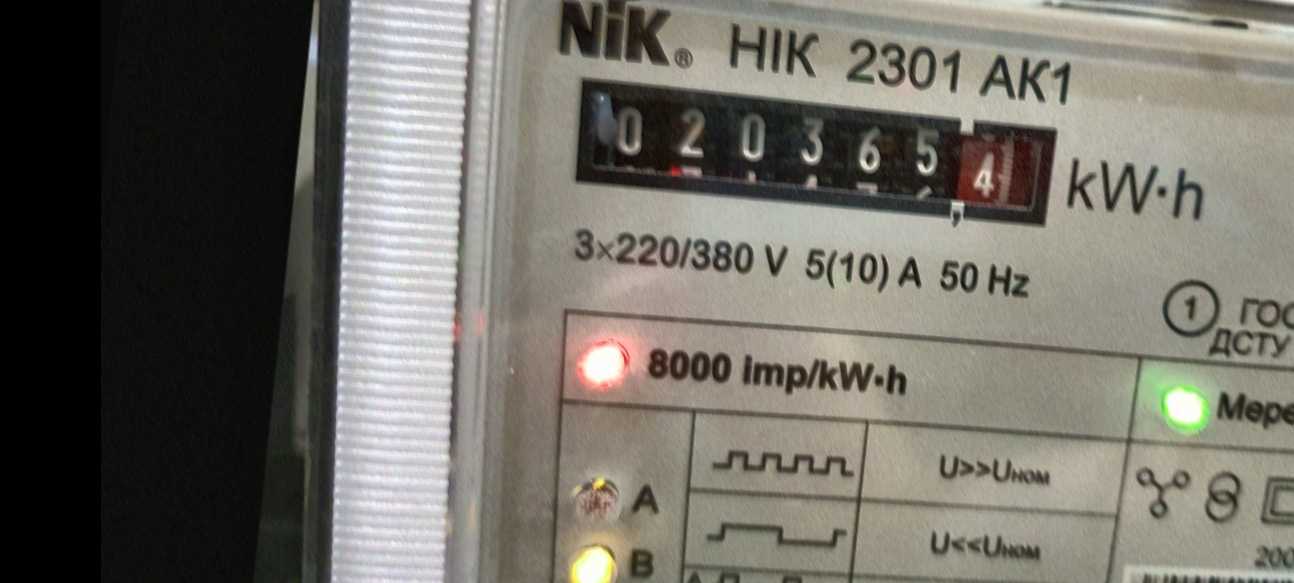0: (613, 102, 651, 160), (738, 112, 773, 164)
2: (677, 106, 712, 159)
3: (797, 116, 831, 168)
4: (972, 149, 1000, 199)
5: (914, 129, 945, 178)
6: (856, 123, 887, 175)
screen: (558, 61, 1077, 250)
